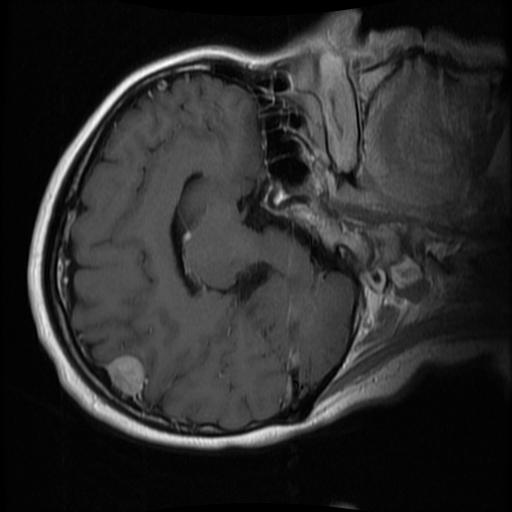meningioma: (107, 356, 145, 397)
